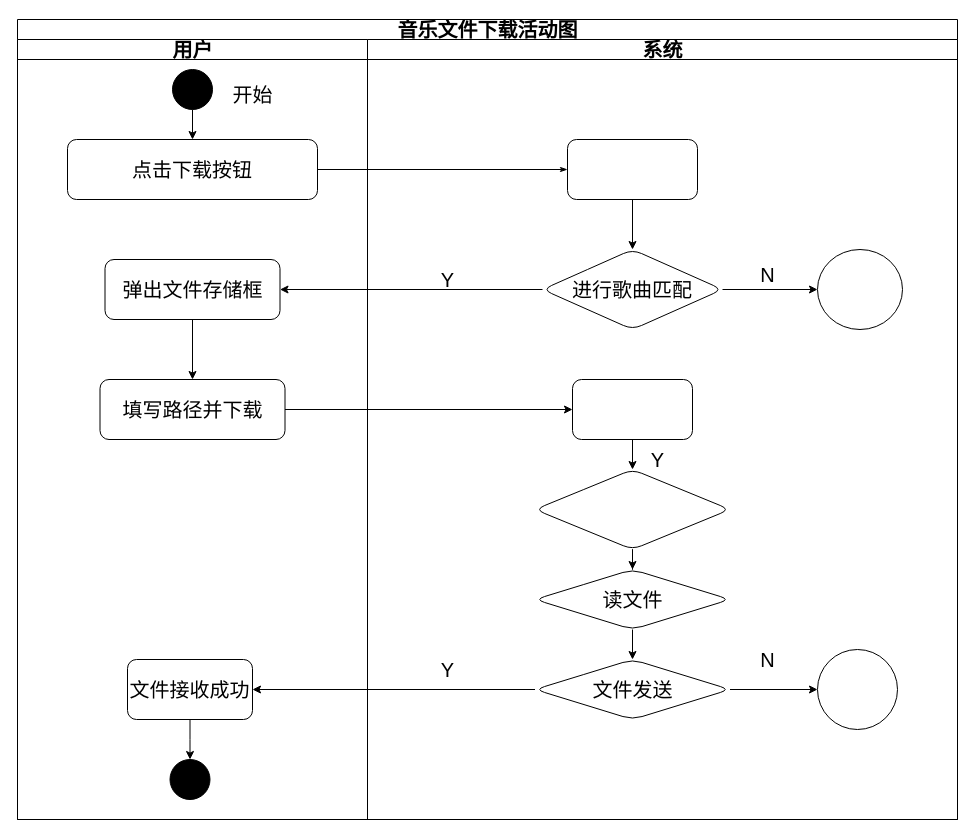
Some shapes in this 975 by 837 pixel diagram are drawn without their labels. Each missing label, with the centre of its shape:
"下载查看" belongs at (632,169).
"下载申请" belongs at (632,409).
"发送 失败" belongs at (857,689).
"失败" belongs at (859,289).
"申请同意" belongs at (632,509).
